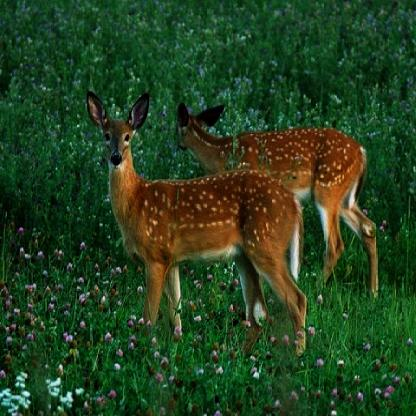Deer: (85, 88, 310, 358), (174, 98, 383, 325)
